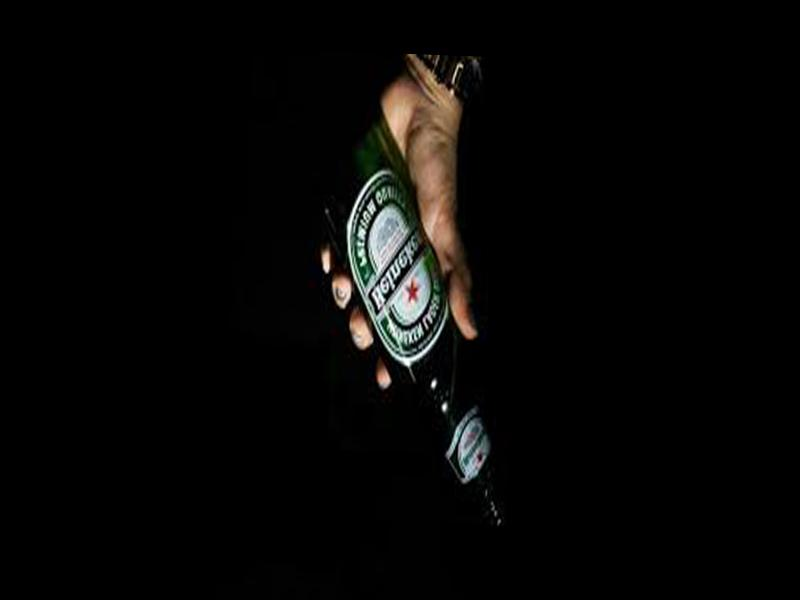Beer: (304, 102, 525, 542)
